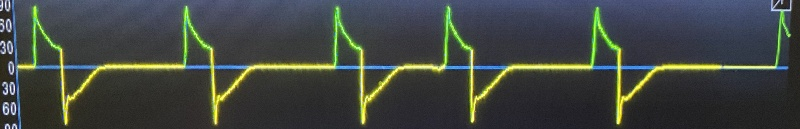normal_flow: (23, 0, 711, 129)
